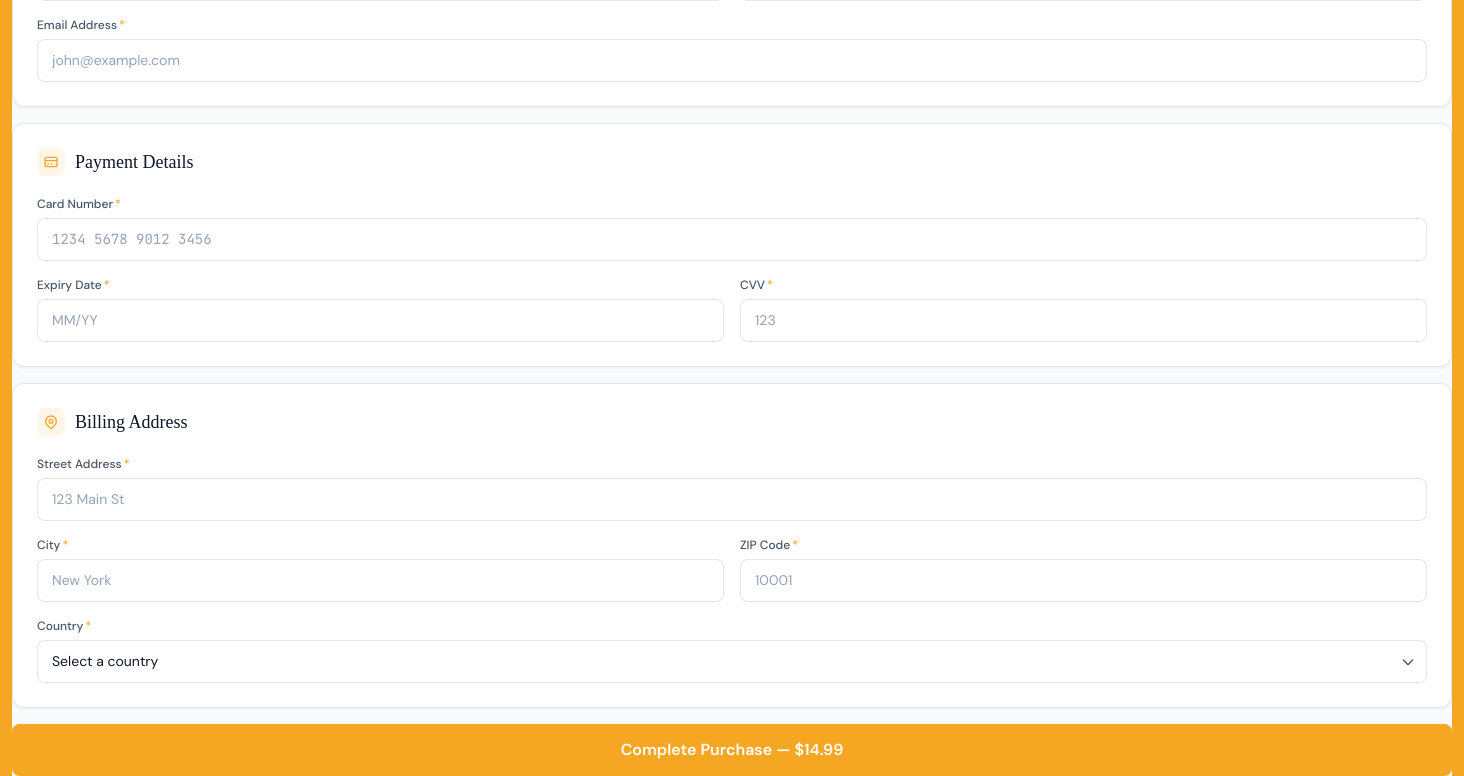
Test: CheckoutForm › shows required field errors on empty submit
This screenshot has width=1464, height=776.
(page scrolled)
Click the button with test id "submit-btn" at (732, 750), box [12,724,1452,775]
(page scrolled)
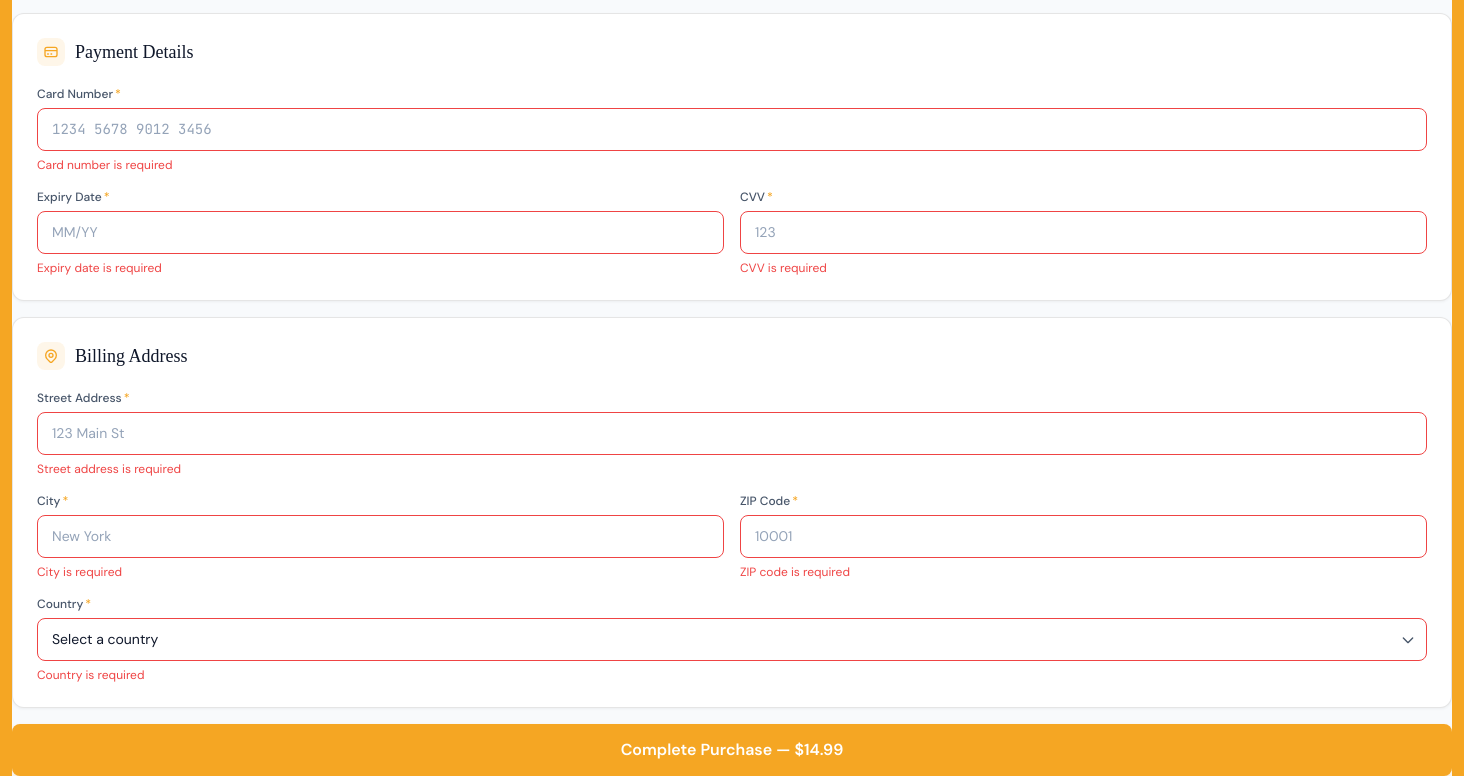
Check: the text "Card number is required" is shown, box [37,157,172,173]
Check: the text "Expiry date is required" is shown, box [37,260,162,276]
Check: the text "CVV is required" is shown, box [740,260,827,276]
